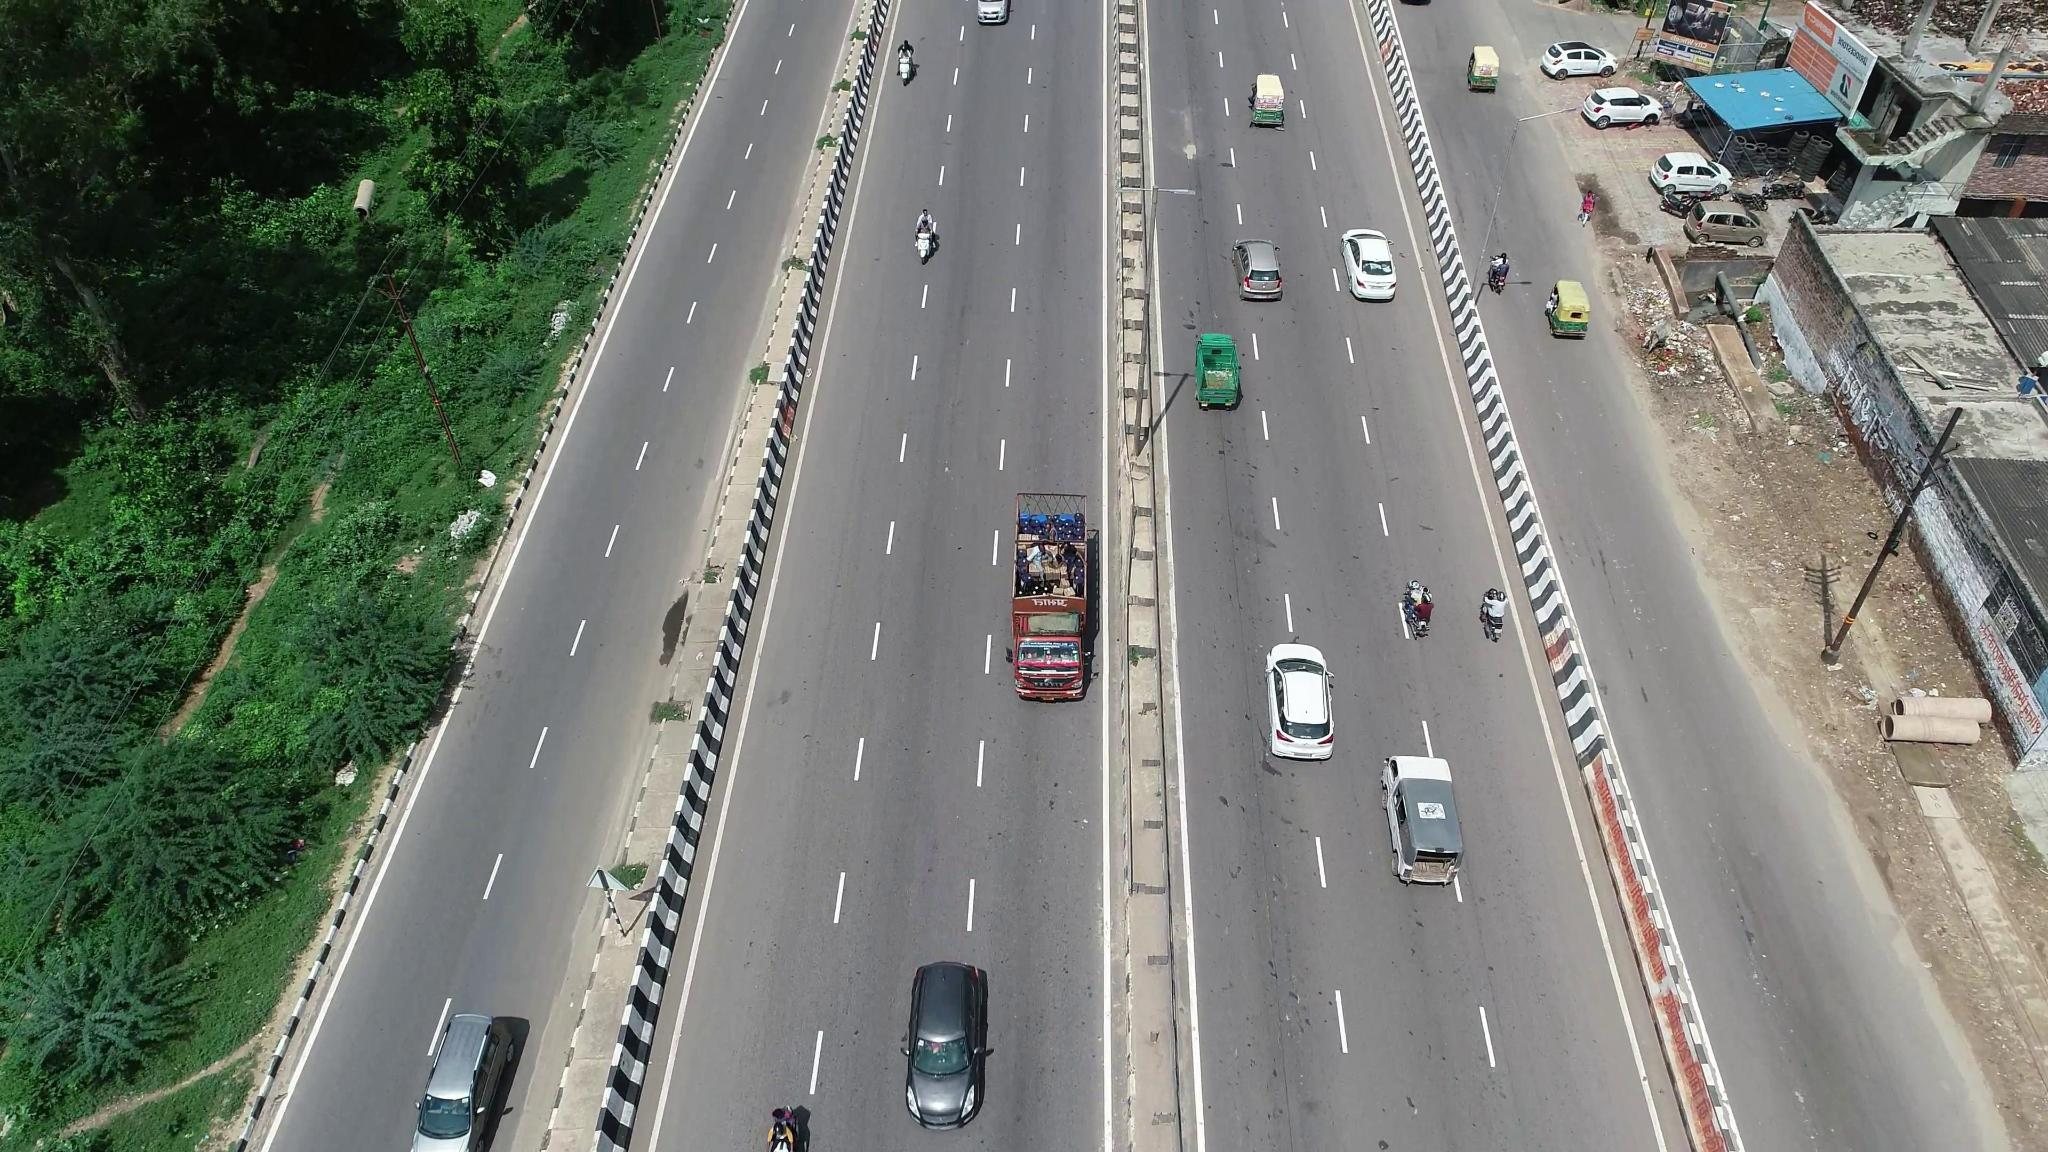Potholes: (1179, 132, 1218, 172)
